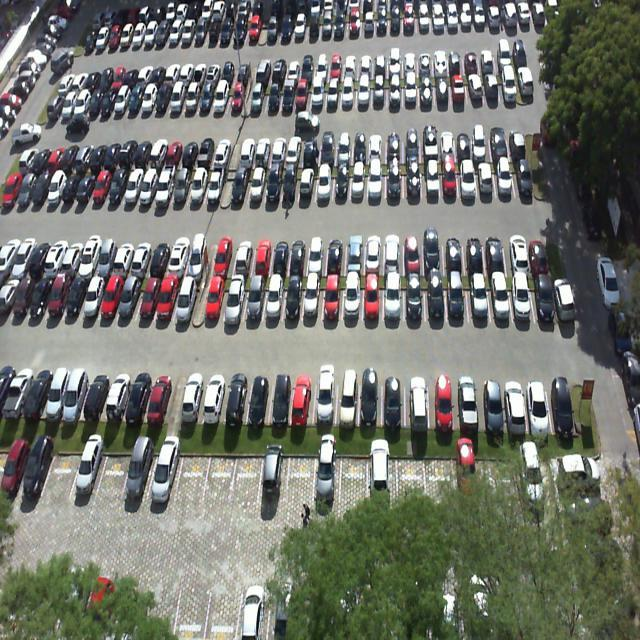space-empty: (94, 445, 132, 502), (123, 442, 158, 502), (43, 445, 78, 499), (231, 451, 264, 504), (545, 370, 576, 426), (499, 373, 528, 432), (204, 448, 238, 498), (175, 445, 208, 496), (312, 451, 342, 507), (223, 370, 254, 424), (21, 446, 55, 494), (259, 448, 290, 500), (523, 371, 550, 428), (64, 367, 93, 420), (476, 372, 502, 429), (117, 271, 146, 322), (222, 272, 249, 326), (83, 371, 112, 421), (288, 449, 314, 504), (106, 371, 134, 422), (452, 374, 479, 426), (136, 267, 162, 320), (428, 375, 454, 428), (127, 370, 154, 420), (312, 372, 336, 428), (268, 373, 294, 424), (154, 274, 180, 324), (203, 370, 229, 420), (246, 372, 272, 422), (262, 270, 286, 324), (530, 270, 557, 318), (148, 374, 175, 422), (359, 371, 382, 426), (174, 272, 198, 324), (382, 371, 405, 424), (101, 270, 125, 320), (241, 275, 265, 325), (335, 373, 359, 423), (290, 372, 313, 424), (405, 374, 428, 426), (486, 273, 511, 320), (483, 227, 507, 275), (181, 373, 206, 418), (443, 226, 466, 273), (205, 273, 225, 327), (130, 236, 156, 276), (113, 238, 140, 276), (509, 276, 532, 320), (303, 276, 324, 324), (155, 165, 178, 208), (525, 229, 548, 272), (444, 277, 467, 320), (467, 275, 488, 322), (148, 237, 172, 278), (188, 164, 211, 206), (363, 276, 384, 322), (282, 276, 302, 324), (167, 238, 192, 276), (505, 227, 526, 272), (322, 277, 343, 322), (425, 229, 445, 276), (188, 239, 212, 278), (139, 165, 162, 205), (511, 156, 534, 196), (287, 234, 310, 274), (404, 226, 424, 272), (404, 274, 424, 320), (426, 276, 446, 322), (172, 165, 193, 208), (382, 231, 404, 272), (229, 238, 252, 277), (204, 166, 226, 206), (464, 228, 484, 272), (231, 164, 252, 205), (213, 239, 236, 276), (384, 276, 402, 322), (307, 234, 328, 273), (345, 231, 364, 274), (268, 236, 290, 272), (251, 235, 272, 272), (345, 275, 362, 320), (324, 235, 344, 273), (364, 235, 383, 273), (458, 162, 478, 198), (478, 158, 496, 198), (299, 166, 317, 205), (494, 160, 514, 195), (267, 166, 284, 207), (283, 164, 300, 205), (250, 166, 268, 204), (368, 162, 386, 200), (422, 163, 440, 198), (333, 165, 350, 202), (388, 162, 404, 200), (403, 163, 420, 198), (440, 162, 458, 195), (316, 166, 332, 200), (351, 164, 367, 198)
space-occupied: (71, 446, 106, 501), (148, 444, 182, 500)
